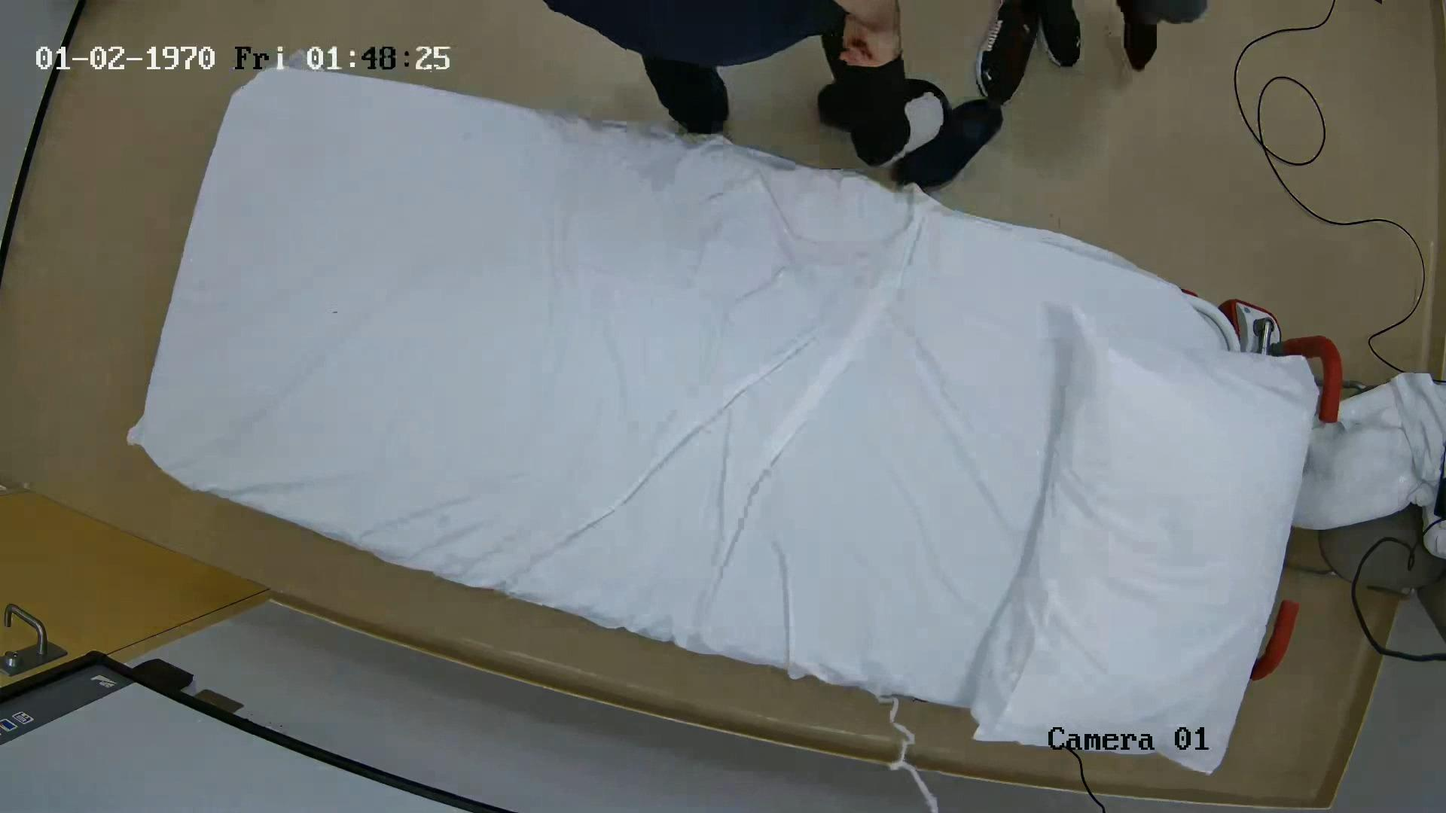bed: (130, 71, 1341, 772)
